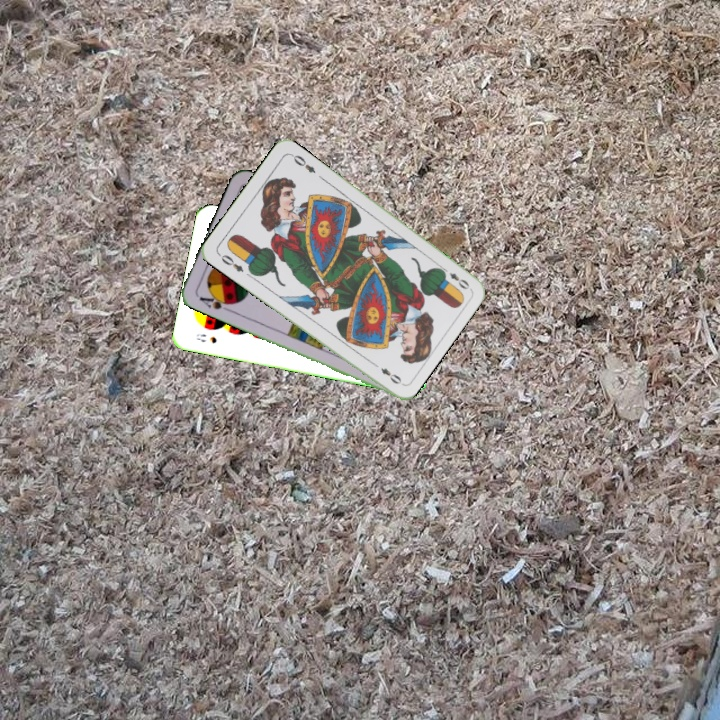EO: (437, 263, 472, 292), (214, 250, 246, 275)
S8: (192, 329, 219, 346)
SA: (195, 289, 235, 314)
